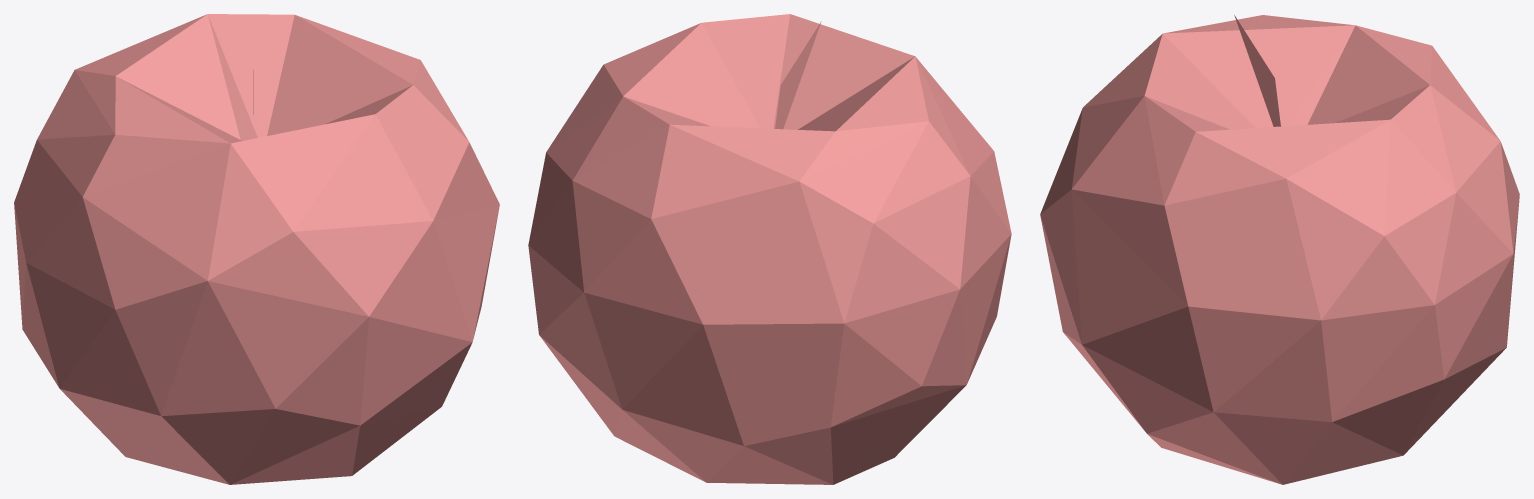
File: Apple.fbx
3 views of the same model, side by side, from view 1: azimuth 30°, elevation 25°; view 2: azimuth 150°, elevation 25°; view 3: azimuth 270°, elevation 25° (orthographic).
Visible parts, largest first — view 1: Manzana; view 2: Manzana; view 3: Manzana.
Boxes of the visible parts, x1,y1,x2,y2 form: Manzana: [14, 14, 499, 484]; Manzana: [528, 14, 1011, 484]; Manzana: [1040, 15, 1519, 484].
Size of the model in its own units: 5.93 by 5.55 by 5.95.
